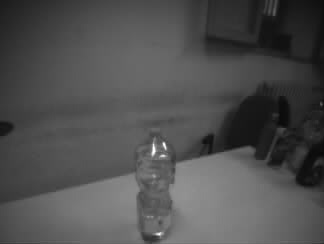Bottle: (133, 126, 176, 242)
